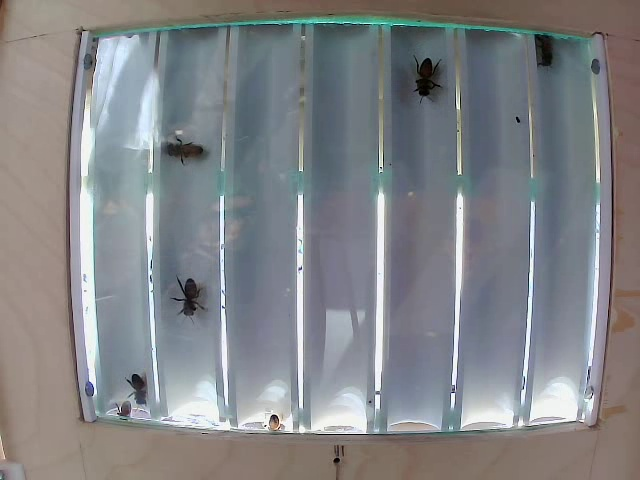bee: (160, 266, 205, 321), (166, 129, 213, 165), (111, 368, 150, 403), (412, 55, 440, 99), (528, 33, 553, 70)
